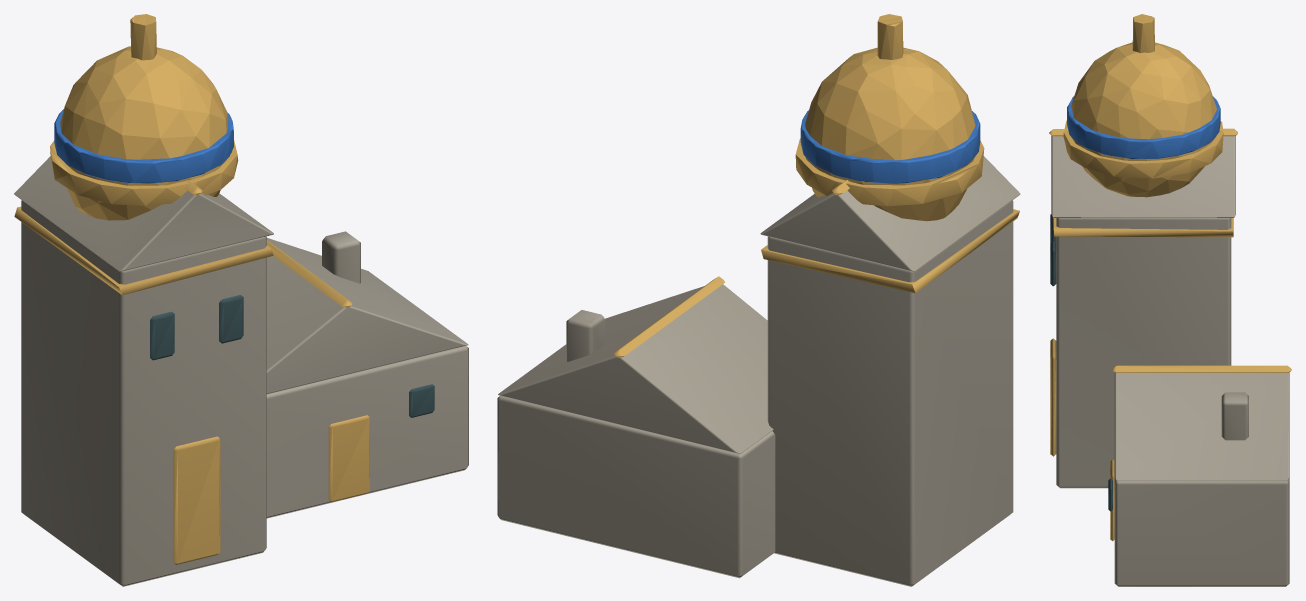
File: default_capital_crown.glb
3 renders of one model, left to right at view 1: azimuth 30°, elevation 25°; view 2: azimuth 150°, elevation 25°; view 3: azimuth 270°, elevation 25°, orthographic. The views are drawn at different scales.
Parts seen in each view (by area): view 1: WoodBody, BrassTrim, FixedDetails; view 2: WoodBody, BrassTrim, FixedDetails; view 3: WoodBody, BrassTrim, FixedDetails.
Boxes of the visible parts, box(x1,y1,x2,y2) form: WoodBody: box(14, 156, 468, 586); BrassTrim: box(14, 14, 369, 564); FixedDetails: box(54, 109, 434, 417); WoodBody: box(497, 156, 1020, 586); BrassTrim: box(613, 14, 1019, 357); FixedDetails: box(800, 110, 980, 183); WoodBody: box(1051, 135, 1289, 586); BrassTrim: box(1049, 14, 1291, 541); FixedDetails: box(1050, 96, 1220, 511).
Size of the model in its own units: 0.3973 by 0.4996 by 0.249.
